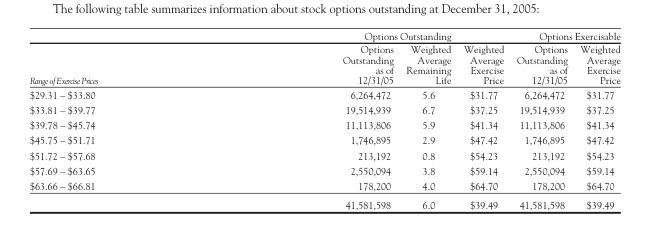table: (28, 28, 619, 209)
table column: (28, 28, 219, 209), (219, 28, 399, 209), (509, 28, 573, 209), (399, 28, 456, 209), (456, 28, 509, 209), (573, 28, 619, 209)
table column header: (28, 28, 619, 86)
table row: (28, 41, 619, 86), (28, 177, 619, 194), (28, 131, 619, 147), (28, 86, 619, 101), (28, 101, 619, 116), (28, 116, 619, 131), (28, 147, 619, 162), (28, 162, 619, 177), (28, 194, 619, 209), (28, 28, 619, 41)
table spanning cell: (28, 28, 219, 86), (219, 28, 456, 41), (456, 28, 509, 86), (509, 28, 619, 41)
